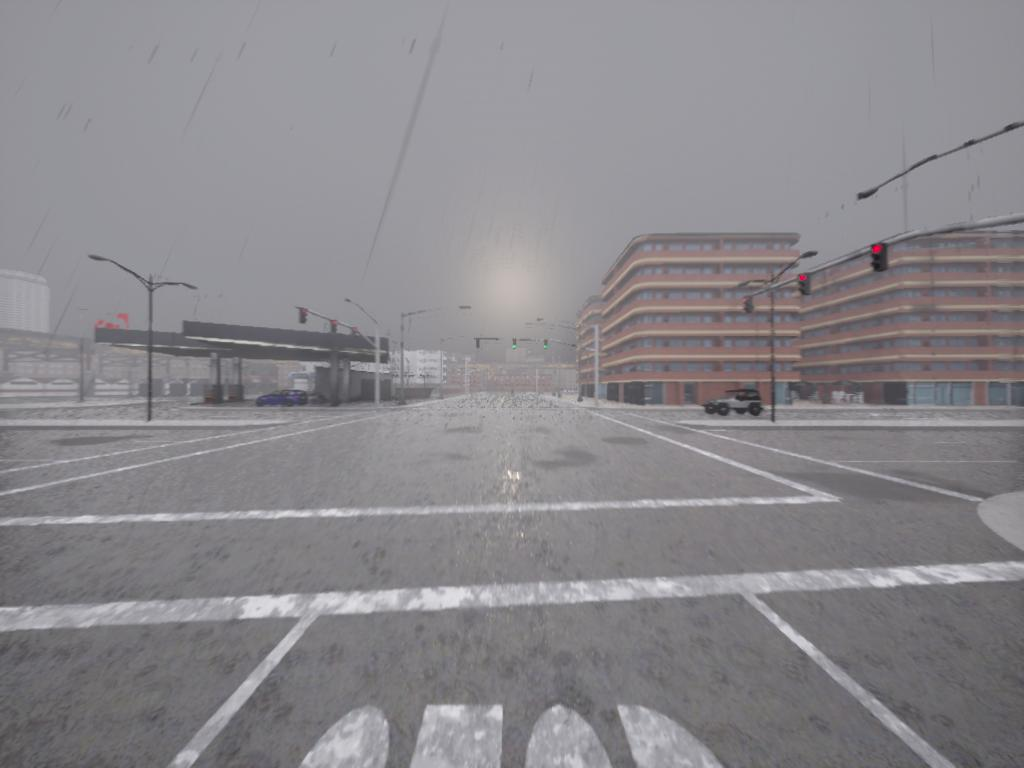traffic_light: (872, 247, 890, 275), (800, 275, 812, 296), (299, 309, 312, 326), (744, 297, 754, 315), (329, 319, 339, 334), (351, 327, 359, 340), (513, 338, 518, 351), (477, 338, 482, 350), (544, 338, 549, 350)
